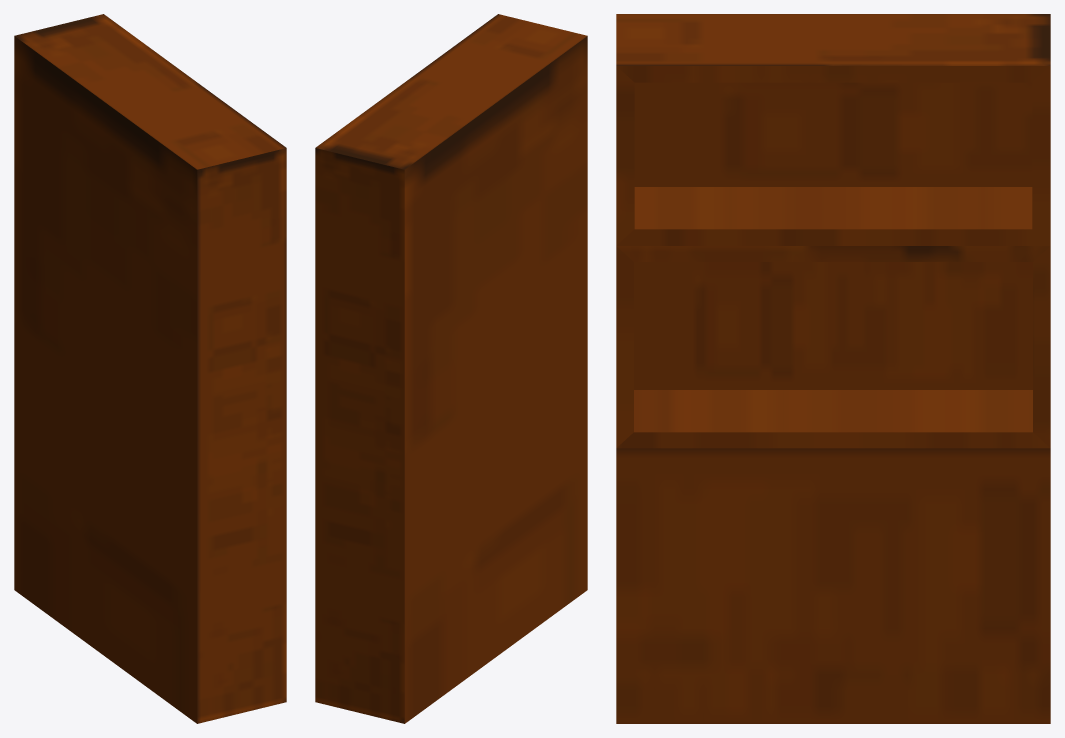
Rendered from library_1.fbx.
3 views of the same model, side by side, from view 1: azimuth 30°, elevation 25°; view 2: azimuth 150°, elevation 25°; view 3: azimuth 270°, elevation 25° (orthographic). The views are drawn at different scales.
Visible parts, largest first — view 1: Cube.000; view 2: Cube.000; view 3: Cube.000.
Boxes of the visible parts, box(x1,y1,x2,y2) form: Cube.000: box(14, 14, 286, 723); Cube.000: box(315, 14, 587, 723); Cube.000: box(616, 14, 1050, 723).
Bounding box in the file's own units: 56.51 × 334 × 200.
